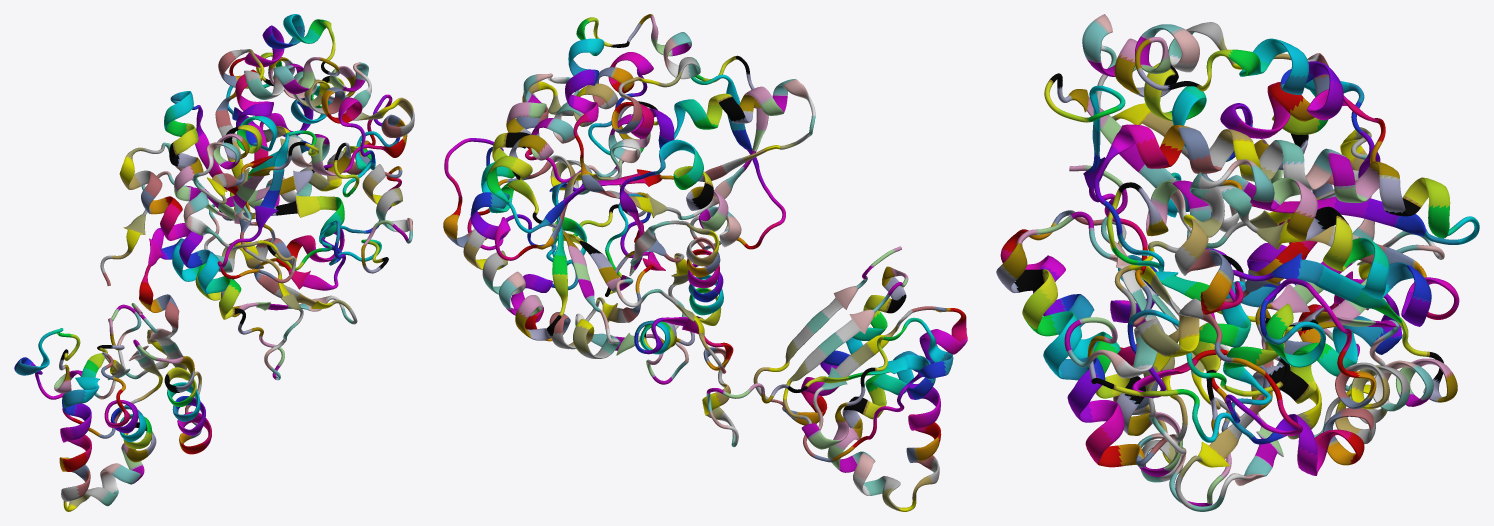
The model's file is protein1.glb.
The picture shows the model from 3 angles, left to right: view 1: azimuth 30°, elevation 25°; view 2: azimuth 150°, elevation 25°; view 3: azimuth 270°, elevation 25°; orthographic projection. The views are drawn at different scales.
Parts seen in each view (by area): view 1: protein1.001; view 2: protein1.001; view 3: protein1.001.
Boxes of the visible parts, box(x1,y1,x2,y2) form: protein1.001: box(14, 14, 414, 511); protein1.001: box(443, 14, 967, 511); protein1.001: box(996, 14, 1479, 511).
Size of the model in its own units: 2.61 by 2.4 by 1.71.
